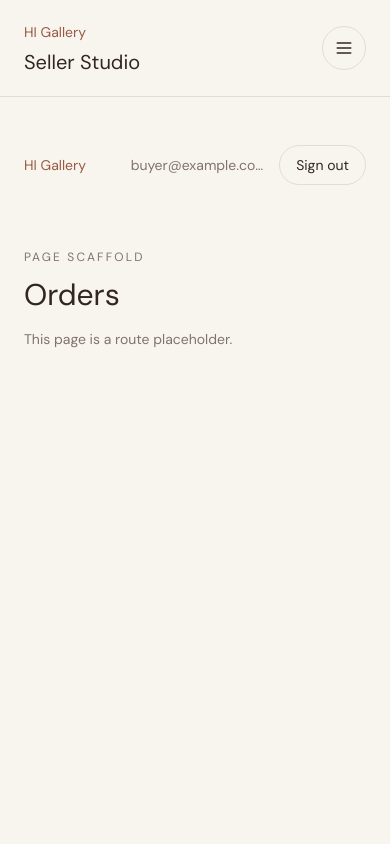
Test: route layouts and navigation › keeps the route and closes the seller mobile menu after changing language
The width and height of the screenshot is (390, 844).
Click the button named "Open Seller Studio menu" at (344, 48), box [322, 26, 366, 70]
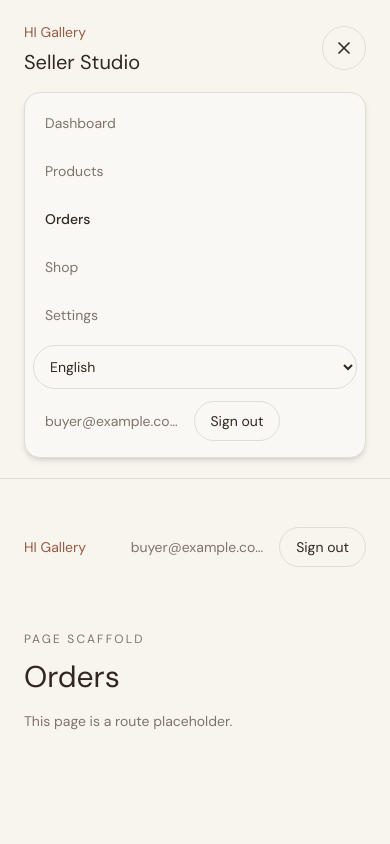
Select "فارسی" in the dropdown named "Select language" at (195, 367), box [33, 345, 357, 389]
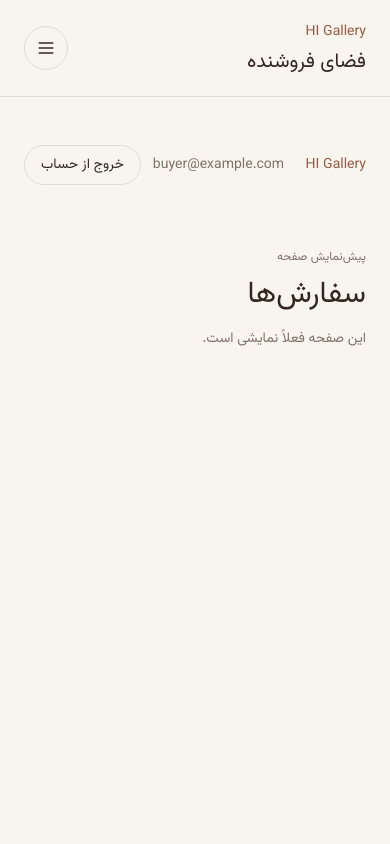
Check: the button named "Open Seller Studio menu" is collapsed, box [24, 26, 68, 70]
